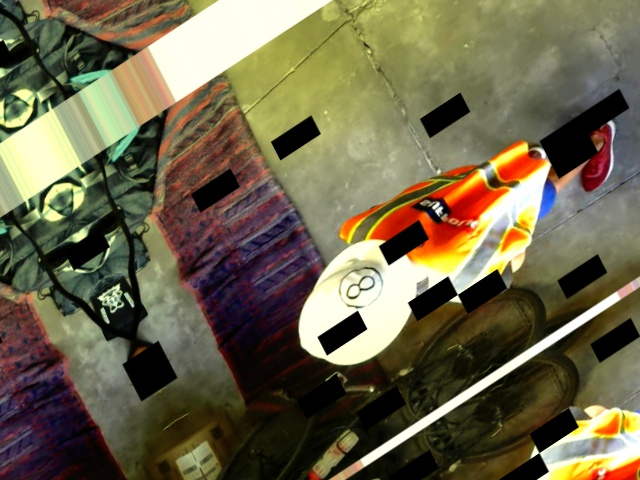eight: (331, 256, 389, 318)
